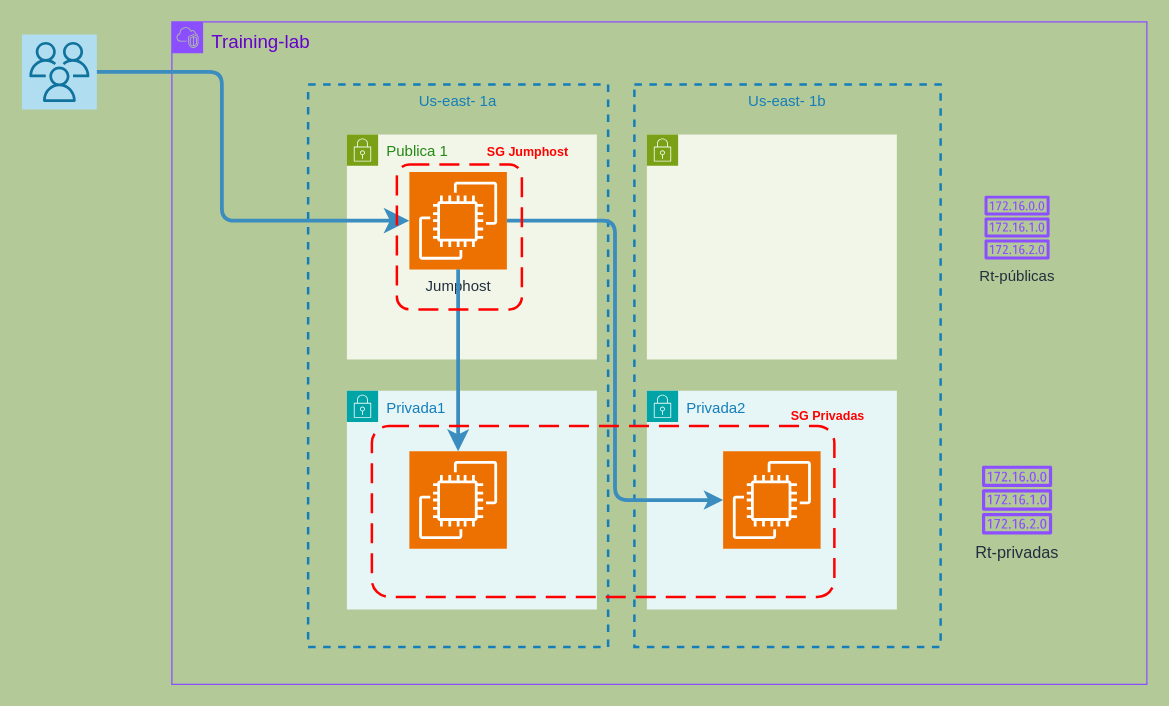
Some shapes in this 1169 by 706 pixel diagram are drawn without their labels. The centre of each missing label's shape, as x and y in pixels:
"Publica 2" belongs at (x=771, y=246).
"ServerA" belongs at (x=457, y=499).
"ServerB" belongs at (x=771, y=499).
"Users" belongs at (x=59, y=71).
